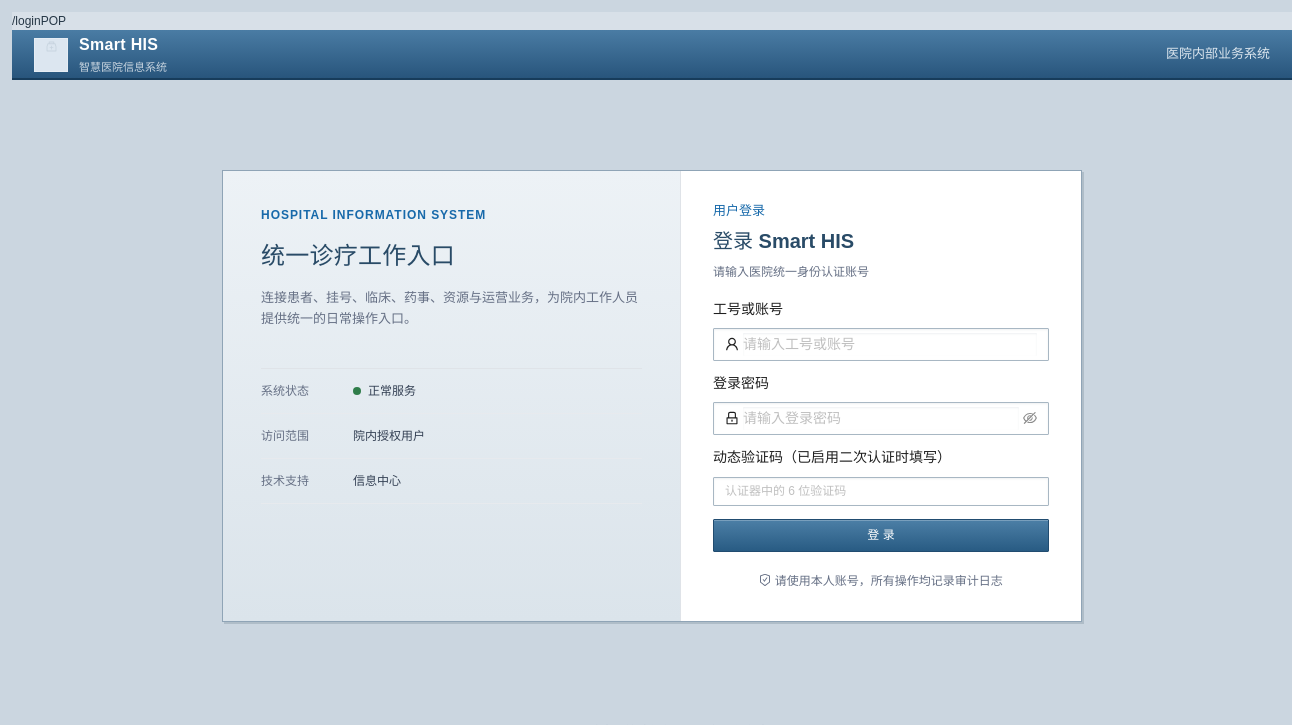
Test case: LoginPage › validates missing the password without attempting login
In the field labelled "工号或账号": point(890, 344) [743,333,1037,356], type "doctor"
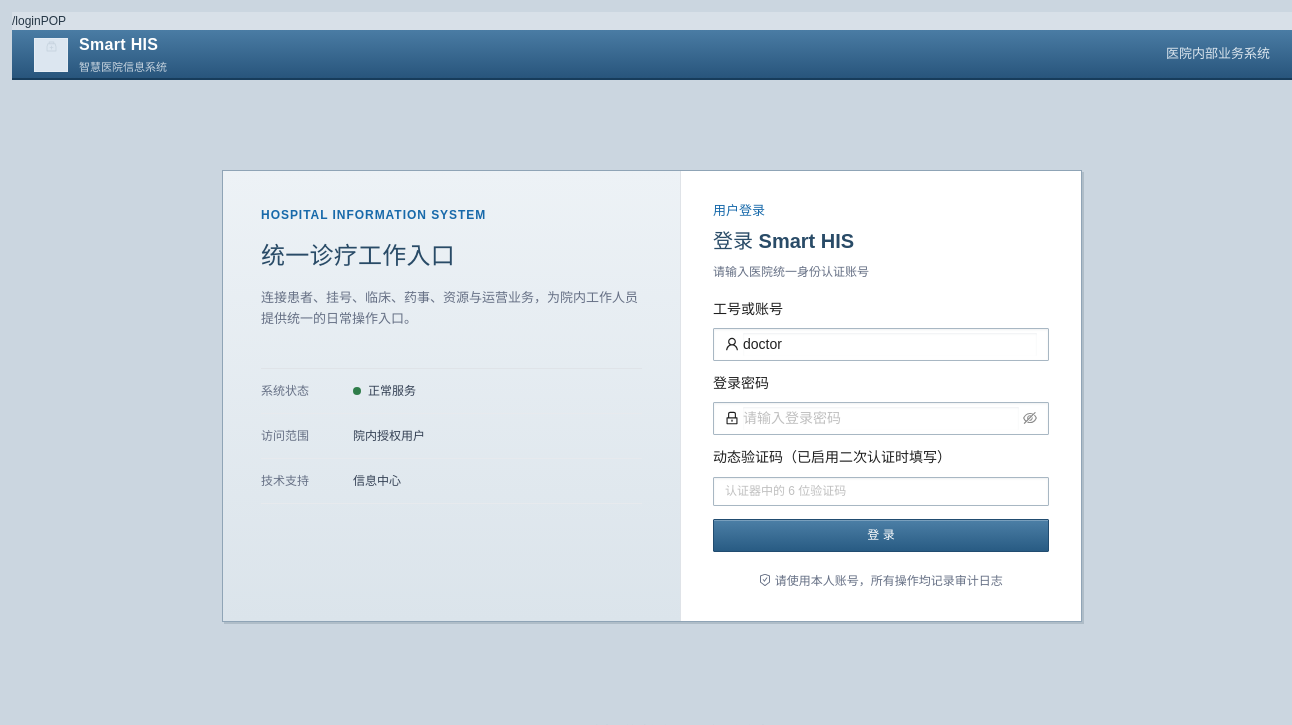
Click the button "登 录": point(881, 535) [713,519,1049,552]
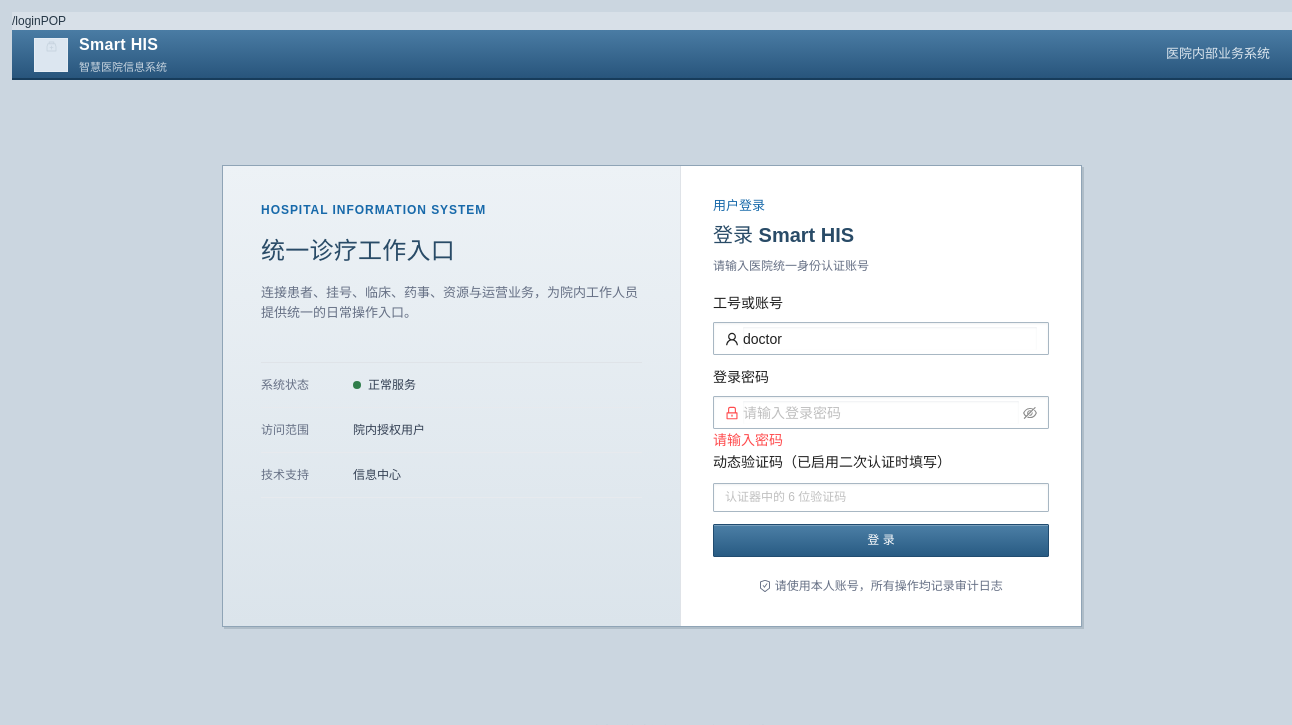
Expected: the text named "当前路径" reads "/login", [12,14,41,28]
Expected: the text "请输入密码" is shown, [713,431,783,448]
